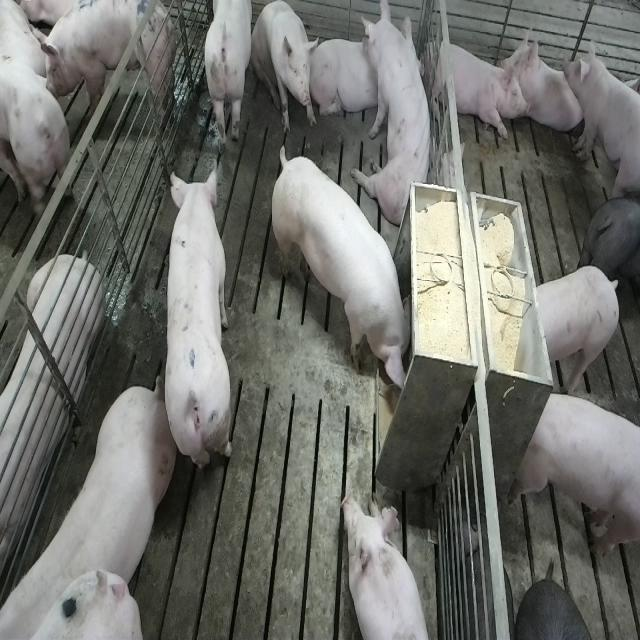Feeding: (274, 146, 420, 394)
Sitting: (355, 4, 438, 228), (250, 0, 316, 137)
Standing: (514, 386, 639, 564), (162, 166, 232, 478), (48, 0, 179, 131), (0, 55, 72, 221), (571, 36, 640, 206), (535, 265, 622, 398), (202, 2, 255, 153), (582, 192, 640, 307)
Sternal_lying: (0, 256, 101, 575), (344, 490, 433, 640), (425, 31, 524, 140), (503, 28, 585, 145), (310, 32, 381, 124)
